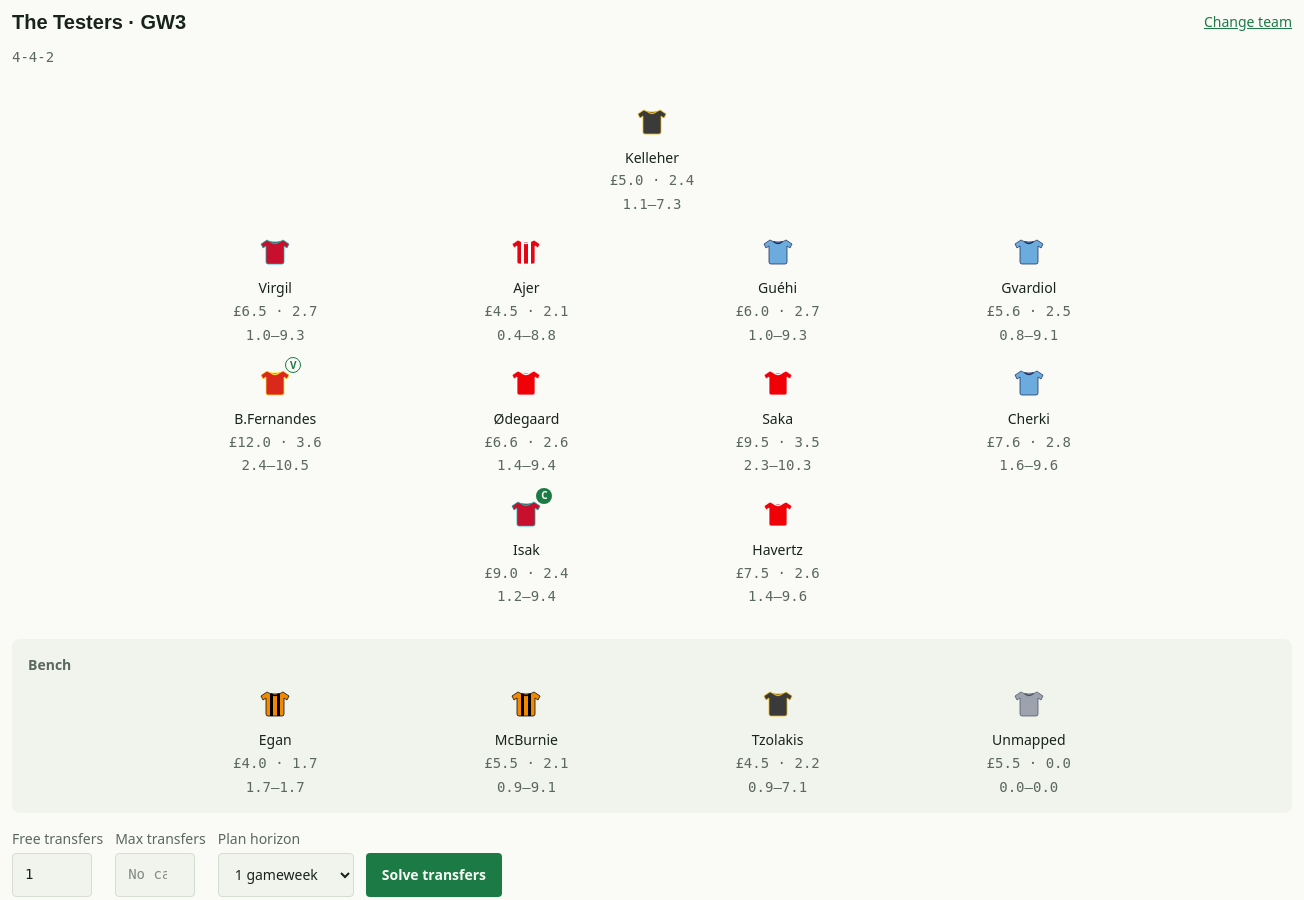
Test: SquadTab solve flow (03-04 Task 2) › renders 'Couldn't solve:' and 'Check your inputs and try again.' on a rejected solve
Expected: the heading "The Testers · GW3" is shown, x1=12 y1=10 x2=186 y2=34
Click the button "Solve transfers" at (434, 875), box x1=366 y1=853 x2=502 y2=897
(page scrolled)
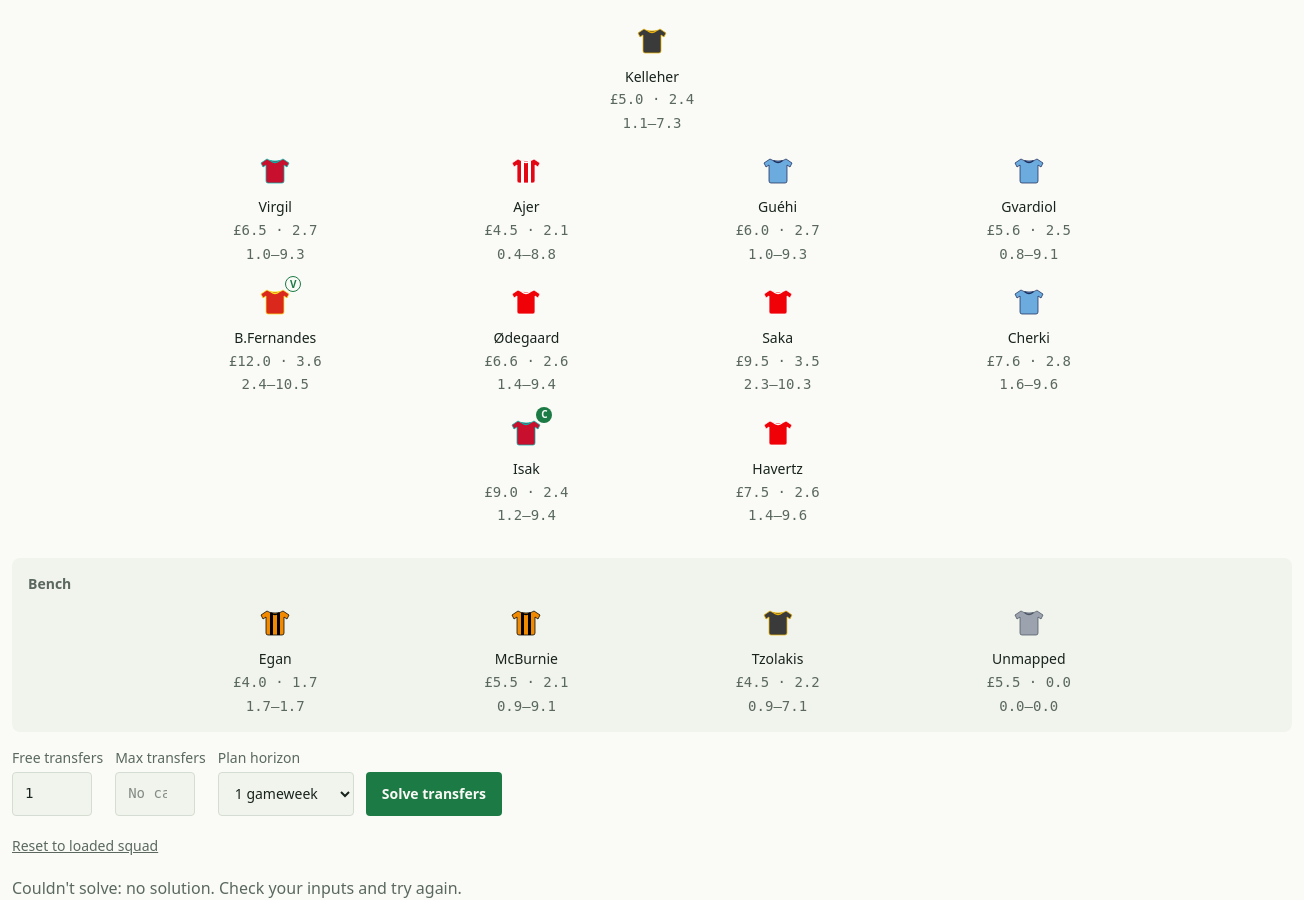
Now the text "Couldn't solve:" is shown, box x1=12 y1=877 x2=126 y2=899
Now the text "no solution" is shown, box x1=126 y1=877 x2=211 y2=899
Now the text "Check your inputs and try again." is shown, box x1=210 y1=877 x2=462 y2=899
